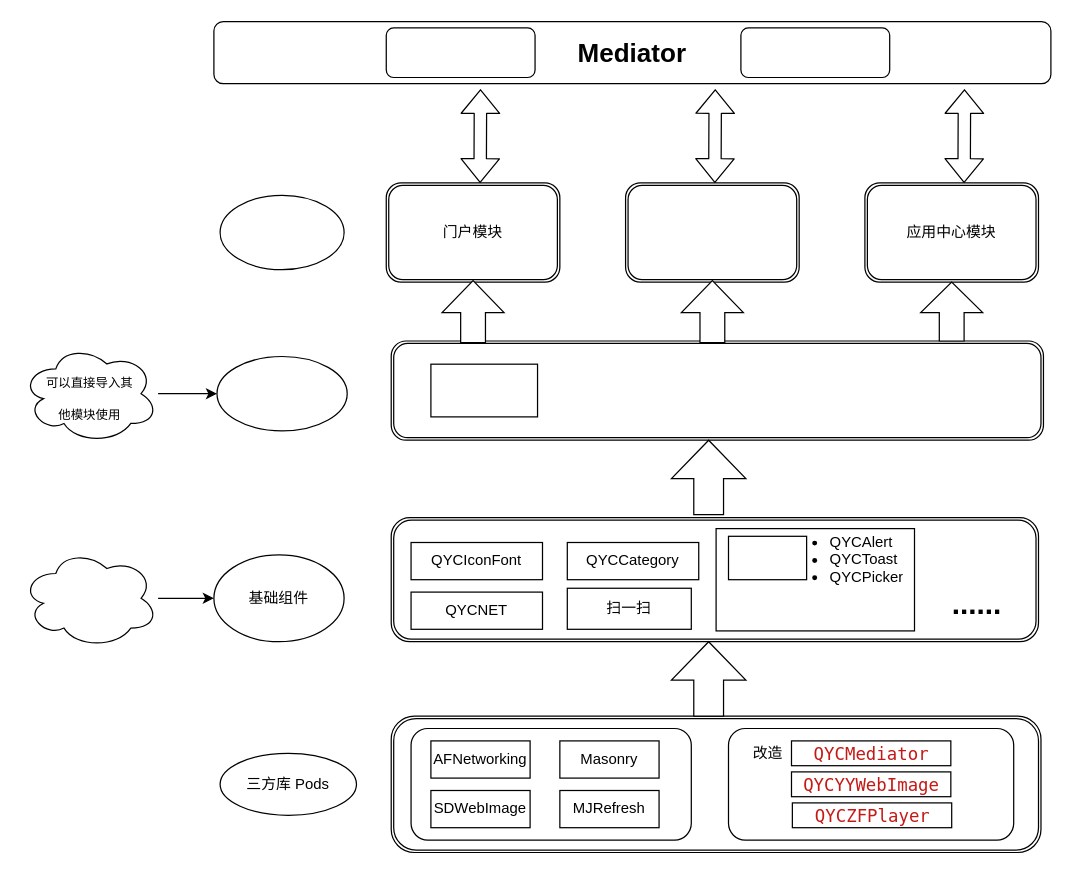
This 1073x874 diagram has some shape labels left out. Here are the shapes that lost their labels. From the top down, the centre of each, then its label:
(x=460, y=52): Target
(x=815, y=52): Action
(x=281, y=232): 模块
(x=711, y=232): 我的模块
(x=281, y=393): 业务组件
(x=484, y=390): 组织架构页面
(x=767, y=557): QYCUI
(x=89, y=597): 可以直接导入其 他项目使用
